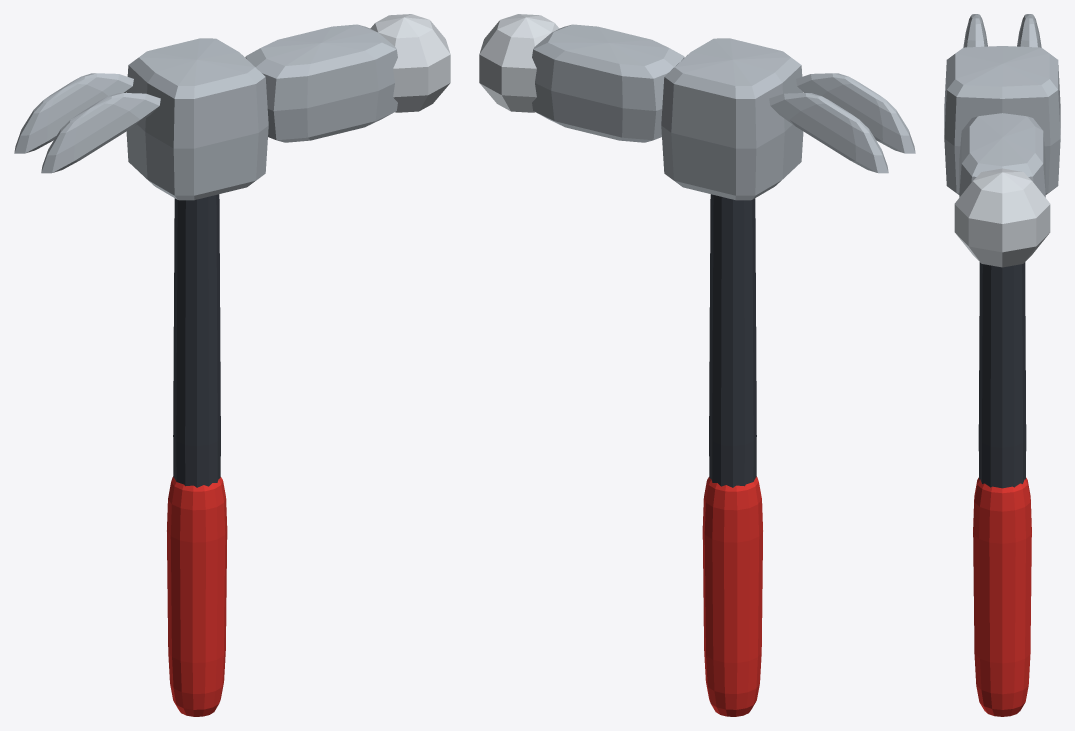
Rendered from m-claw.glb.
3 views of the same model, side by side, from view 1: azimuth 30°, elevation 25°; view 2: azimuth 150°, elevation 25°; view 3: azimuth 270°, elevation 25° (orthographic).
Visible parts, largest first — view 1: melee; view 2: melee; view 3: melee.
Part boxes in pixels (x1,y1,x2,y2): melee: (14, 14, 450, 716); melee: (479, 14, 915, 716); melee: (944, 14, 1060, 716).
Bounding box in the file's own units: 1.62 × 2.42 × 0.3921.
